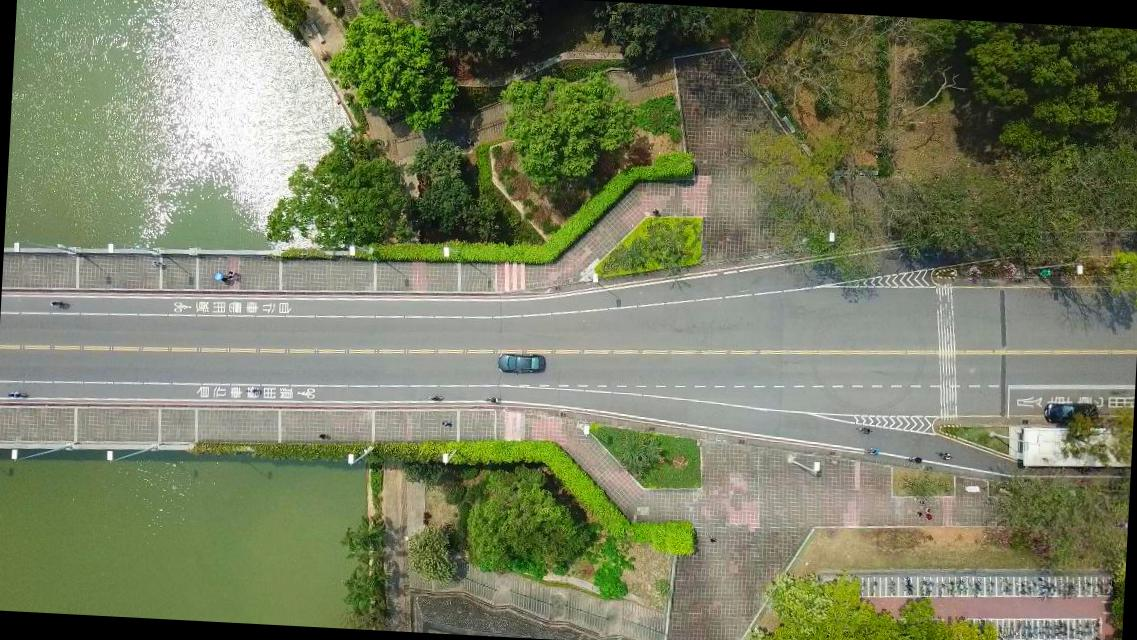vehicle: (1042, 401, 1098, 427), (496, 352, 545, 376)
